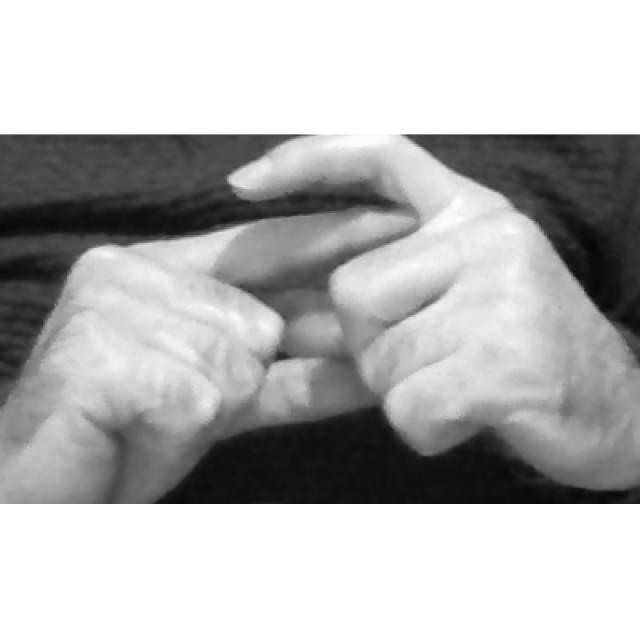G-: (1, 137, 638, 504)
